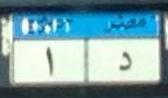1: (43, 45, 57, 76)
daal: (118, 48, 132, 72)
